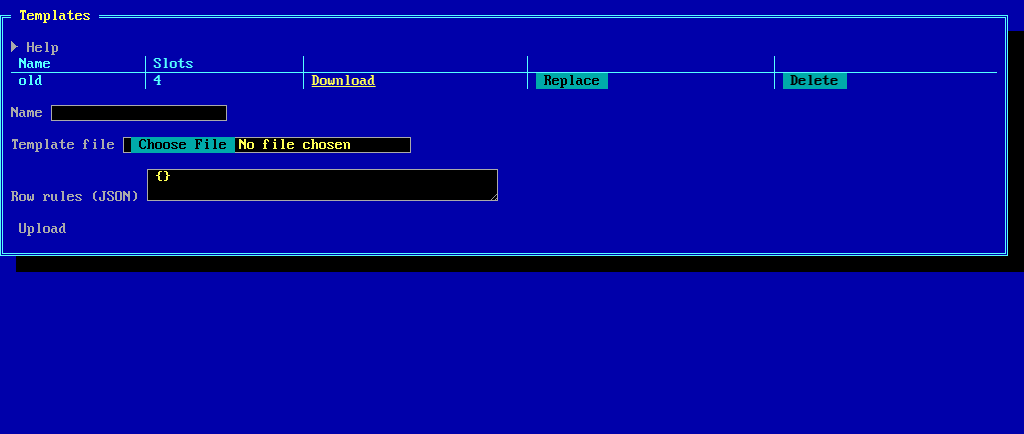
Test case: a failed fixed-value check after a saved Replace still reloads the list and says the template was saved
Step 1. Click the button "Replace" → {"x": 572, "y": 81}, box [536,73,608,89]
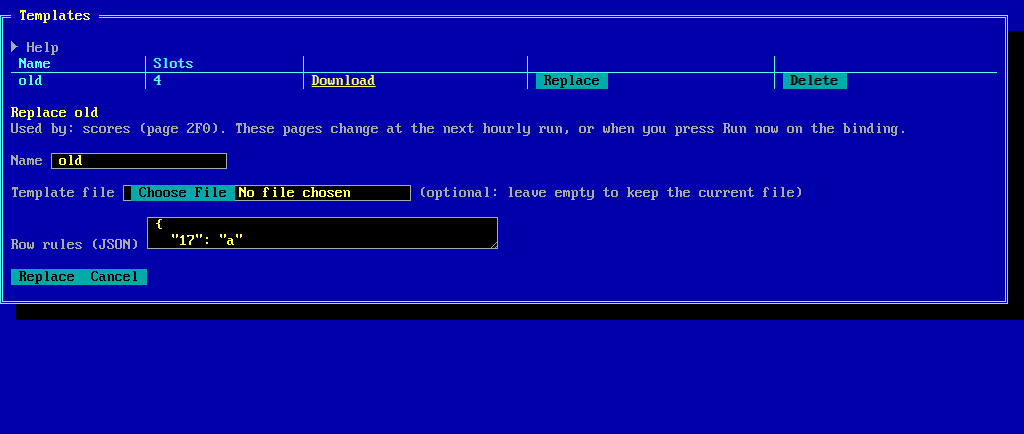
Step 2. Submit the form, box [11,105,997,285]
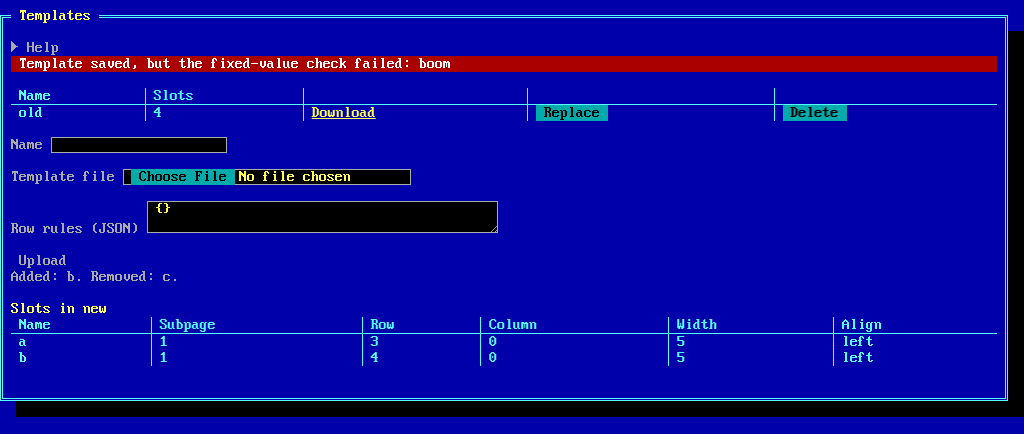
Expected: the text with class "changes" reads "Added: b. Removed: c.", [11,269,179,285]
Expected: the message "Template saved, but the fixed-value check failed: boom" is shown, [11,56,997,72]
